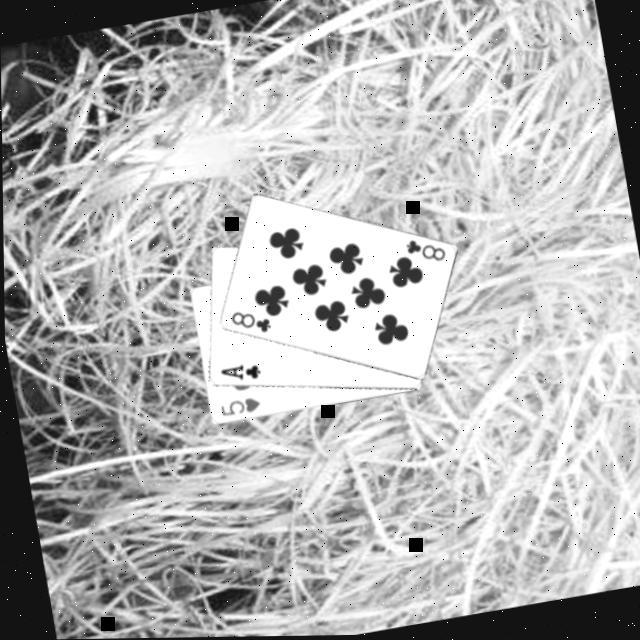5H: (216, 392, 264, 420)
8C: (401, 230, 449, 270), (227, 302, 274, 341)
AC: (216, 358, 264, 388)
